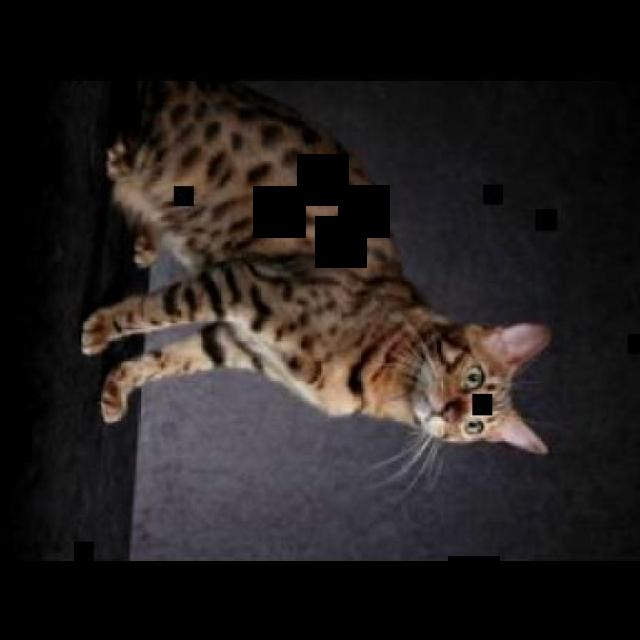unauthorized: (79, 75, 552, 494)
